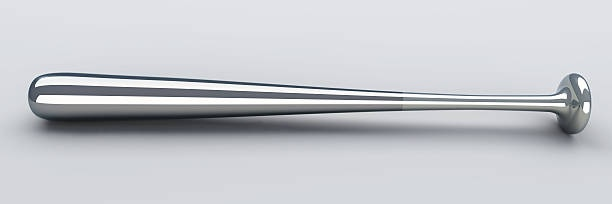bita: (33, 71, 587, 134)
